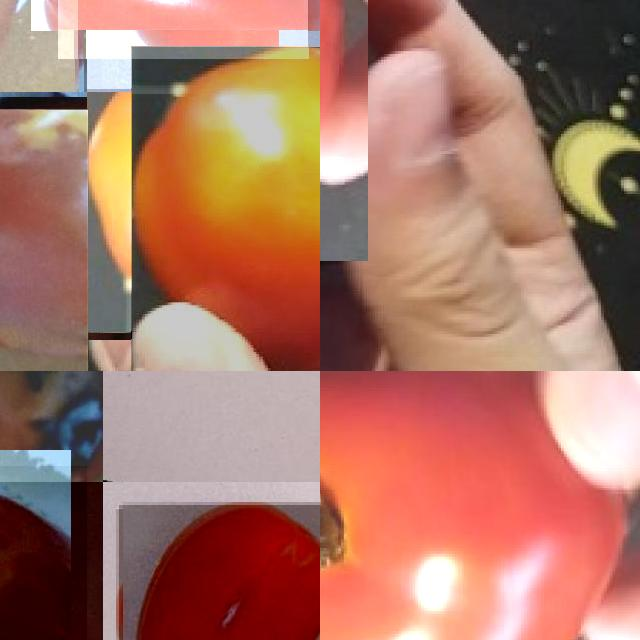0: (132, 47, 320, 371), (119, 505, 320, 640), (58, 0, 308, 59)
1: (0, 109, 87, 371)
Fresh Tomato: (320, 371, 640, 640)
